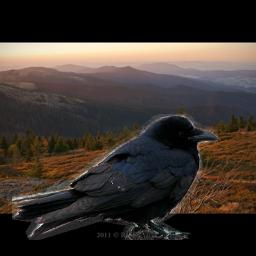Crow: (12, 114, 218, 240)
